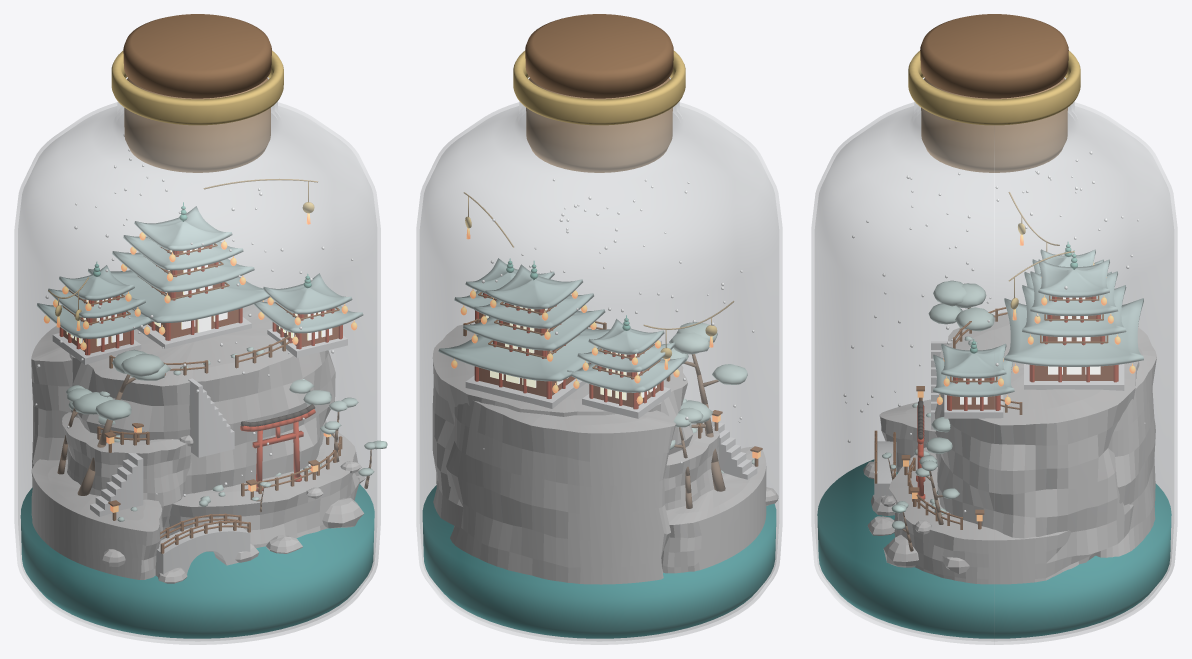
The picture shows the model from 3 angles, left to right: view 1: azimuth 30°, elevation 25°; view 2: azimuth 150°, elevation 25°; view 3: azimuth 270°, elevation 25°; orthographic projection.
Parts seen in each view (by area): view 1: Glass_Bottle_Body, Teal_Water_Pool, Upper_Temple_Cliff_Plateau, Carved_Wooden_Stopper_Cap, Main_Pagoda_Upturned_Tile_Roofs, Left_Lower_Rock_Terrace, Center_Right_Lower_Rock_Terrace, Cork_Stopper_Plug, Left_Mid_Rock_Ledge, Gold_Neck_Band, Snowy_Stone_Stairways, Rear_Cliff_Backing_Rock (+15 smaller); view 2: Glass_Bottle_Body, Rear_Cliff_Backing_Rock, Teal_Water_Pool, Carved_Wooden_Stopper_Cap, Main_Pagoda_Upturned_Tile_Roofs, Upper_Temple_Cliff_Plateau, Left_Lower_Rock_Terrace, Cork_Stopper_Plug, Gold_Neck_Band, Left_Pagoda_Upturned_Tile_Roofs, Left_Mid_Rock_Ledge, Snowy_Pine_Foliage_Clusters (+8 smaller); view 3: Glass_Bottle_Body, Upper_Temple_Cliff_Plateau, Teal_Water_Pool, Main_Pagoda_Upturned_Tile_Roofs, Carved_Wooden_Stopper_Cap, Center_Right_Lower_Rock_Terrace, Cork_Stopper_Plug, Rear_Cliff_Backing_Rock, Gold_Neck_Band, Snowy_Pine_Foliage_Clusters, Right_Pagoda_Upturned_Tile_Roofs, Snow_Capped_Boulders (+11 smaller).
Boxes of the visible parts, x1=… form: Glass_Bottle_Body: x1=14, y1=77, x2=380, y2=644; Teal_Water_Pool: x1=20, y1=484, x2=374, y2=638; Upper_Temple_Cliff_Plateau: x1=69, y1=298, x2=335, y2=494; Carved_Wooden_Stopper_Cap: x1=123, y1=14, x2=271, y2=98; Main_Pagoda_Upturned_Tile_Roofs: x1=88, y1=206, x2=269, y2=322; Left_Lower_Rock_Terrace: x1=31, y1=459, x2=162, y2=579; Center_Right_Lower_Rock_Terrace: x1=163, y1=432, x2=359, y2=551; Cork_Stopper_Plug: x1=124, y1=78, x2=270, y2=172; Left_Mid_Rock_Ledge: x1=62, y1=412, x2=193, y2=527; Gold_Neck_Band: x1=111, y1=50, x2=283, y2=125; Snowy_Stone_Stairways: x1=90, y1=378, x2=234, y2=516; Rear_Cliff_Backing_Rock: x1=31, y1=326, x2=72, y2=468; Glass_Bottle_Body: x1=416, y1=77, x2=782, y2=644; Rear_Cliff_Backing_Rock: x1=446, y1=400, x2=675, y2=584; Teal_Water_Pool: x1=422, y1=485, x2=776, y2=638; Carved_Wooden_Stopper_Cap: x1=525, y1=14, x2=673, y2=98; Main_Pagoda_Upturned_Tile_Roofs: x1=438, y1=264, x2=609, y2=381; Upper_Temple_Cliff_Plateau: x1=432, y1=324, x2=693, y2=527; Left_Lower_Rock_Terrace: x1=661, y1=446, x2=766, y2=573; Cork_Stopper_Plug: x1=526, y1=78, x2=672, y2=172; Gold_Neck_Band: x1=513, y1=50, x2=685, y2=125; Left_Pagoda_Upturned_Tile_Roofs: x1=567, y1=319, x2=686, y2=392; Left_Mid_Rock_Ledge: x1=664, y1=423, x2=719, y2=510; Snowy_Pine_Foliage_Clusters: x1=661, y1=322, x2=747, y2=449; Glass_Bottle_Body: x1=811, y1=77, x2=1177, y2=644; Upper_Temple_Cliff_Plateau: x1=934, y1=312, x2=1139, y2=563; Teal_Water_Pool: x1=817, y1=459, x2=1171, y2=638; Main_Pagoda_Upturned_Tile_Roofs: x1=1004, y1=259, x2=1143, y2=366; Carved_Wooden_Stopper_Cap: x1=920, y1=14, x2=1068, y2=98; Center_Right_Lower_Rock_Terrace: x1=889, y1=447, x2=1096, y2=584; Cork_Stopper_Plug: x1=921, y1=78, x2=1067, y2=172; Rear_Cliff_Backing_Rock: x1=1096, y1=327, x2=1156, y2=557; Gold_Neck_Band: x1=908, y1=51, x2=1080, y2=125; Snowy_Pine_Foliage_Clusters: x1=882, y1=280, x2=994, y2=529; Right_Pagoda_Upturned_Tile_Roofs: x1=933, y1=344, x2=1014, y2=397; Snow_Capped_Boulders: x1=863, y1=461, x2=969, y2=573.
Size of the model in its own units: 0.6182 by 1 by 0.6182.
